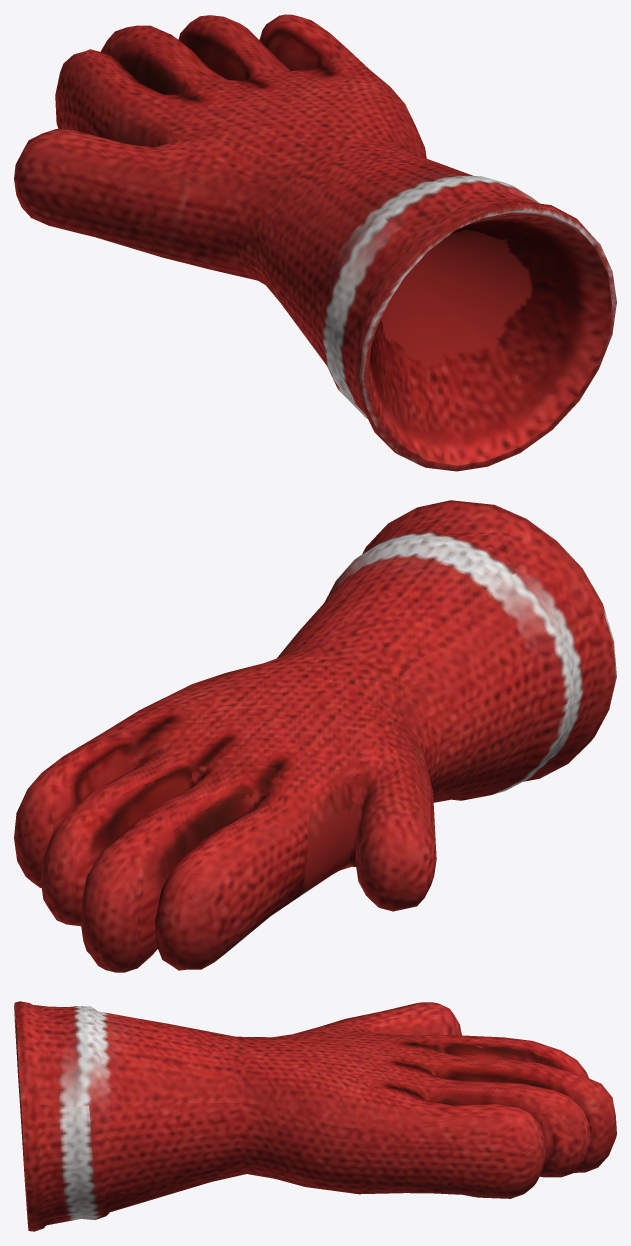
The model's file is item_mm9_10365.glb.
The picture shows the model from 3 angles, top to bottom: view 1: azimuth 30°, elevation 25°; view 2: azimuth 150°, elevation 25°; view 3: azimuth 270°, elevation 25°; orthographic projection. The views are drawn at different scales.
Parts seen in each view (by area): view 1: d10365; view 2: d10365; view 3: d10365.
Part boxes in pixels (bbox=[...]): d10365: bbox=[14, 14, 616, 471]; d10365: bbox=[14, 500, 616, 972]; d10365: bbox=[14, 1001, 616, 1231].
Bounding box in the file's own units: 0.547 × 0.3898 × 1.02.
1 material, 1 textured.
